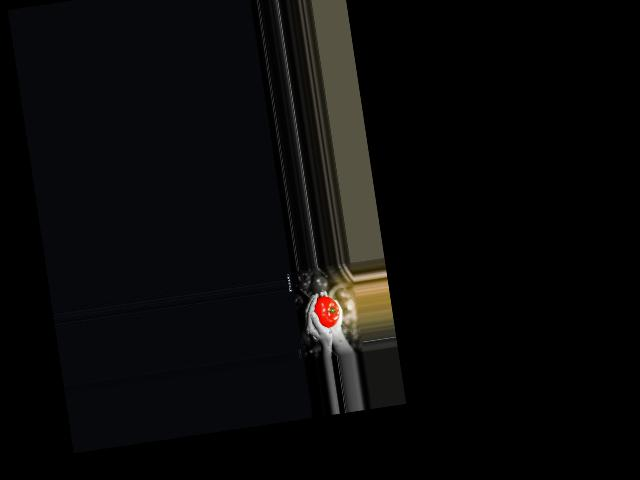tomato: (312, 294, 341, 329)
